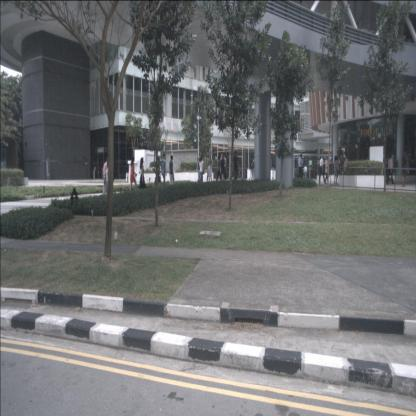human-pedestrian-adult: (129, 156, 138, 196), (401, 151, 409, 187), (139, 157, 146, 197), (386, 154, 395, 185), (102, 158, 109, 197), (232, 150, 240, 184), (251, 152, 259, 182), (297, 153, 304, 187), (216, 154, 223, 186), (161, 153, 167, 190), (105, 160, 111, 196), (169, 154, 175, 190), (319, 155, 326, 184), (342, 154, 348, 184), (338, 154, 344, 183), (324, 155, 330, 184), (199, 157, 205, 186), (208, 154, 213, 184), (335, 154, 340, 182), (196, 156, 201, 184), (207, 155, 212, 183), (222, 156, 227, 180), (334, 156, 338, 186), (221, 154, 225, 180), (304, 164, 308, 179)
